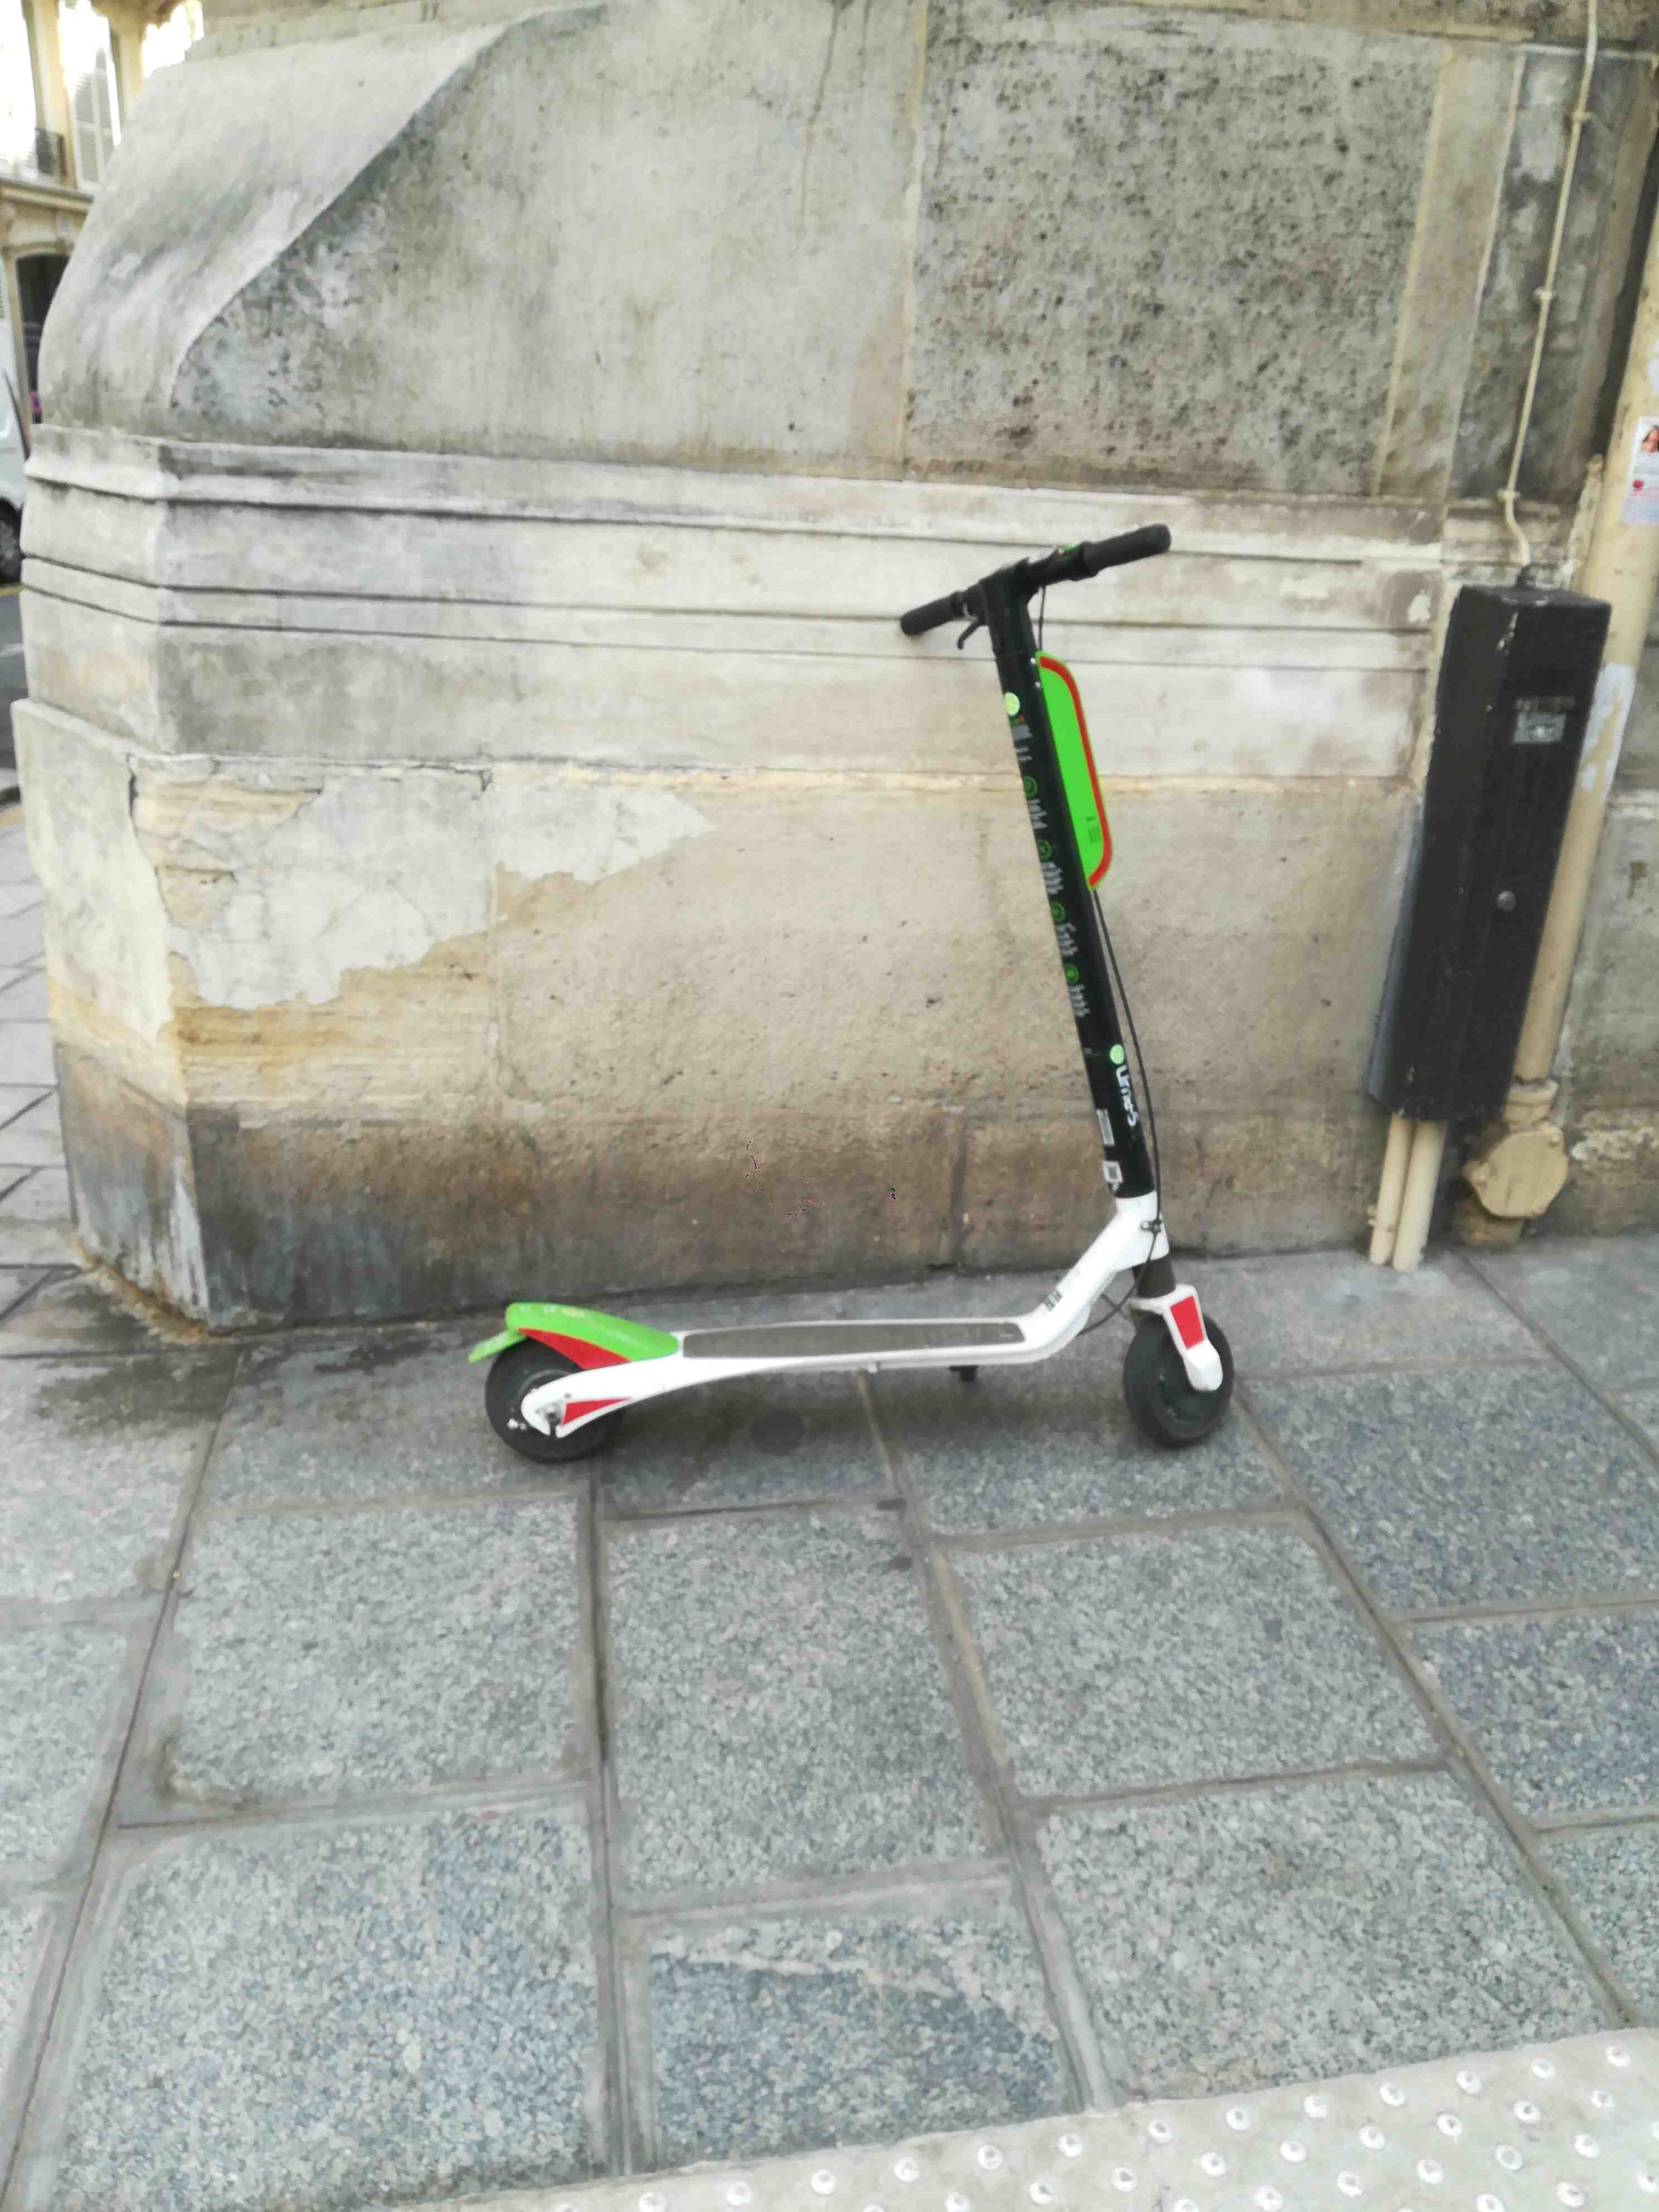scooter: (460, 475, 1279, 1503)
